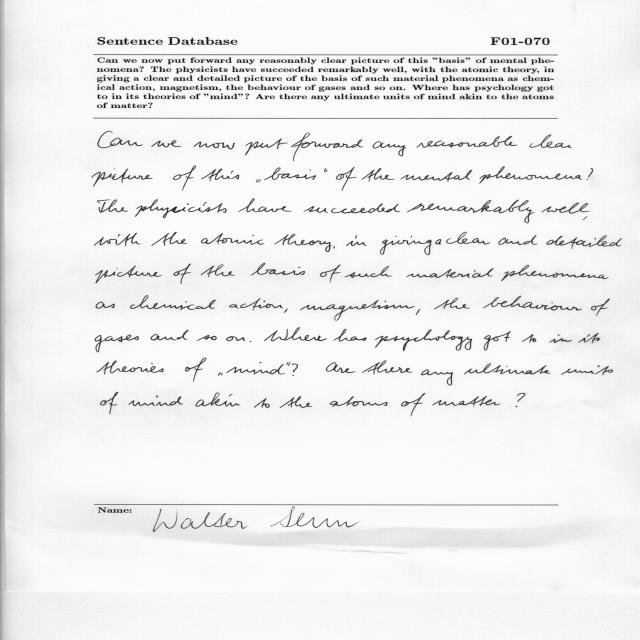word: (407, 200, 590, 223), (300, 300, 415, 321), (375, 330, 472, 352), (291, 133, 363, 161), (479, 166, 582, 184), (135, 200, 227, 219), (501, 265, 609, 281), (362, 168, 473, 182), (484, 296, 582, 311), (130, 296, 216, 310), (417, 136, 517, 148), (95, 266, 162, 283), (92, 169, 153, 187), (546, 235, 622, 249), (275, 234, 332, 252), (380, 236, 432, 255), (464, 364, 550, 375), (97, 361, 164, 375), (406, 269, 494, 279), (264, 328, 327, 341), (95, 335, 139, 353), (98, 131, 143, 148), (201, 233, 264, 245), (227, 362, 289, 374), (245, 139, 288, 156), (238, 199, 292, 212), (363, 361, 413, 375), (331, 204, 400, 214), (433, 396, 500, 406), (196, 392, 240, 407), (251, 264, 305, 276), (229, 299, 283, 311), (264, 168, 316, 180), (128, 395, 183, 406), (95, 233, 141, 246), (530, 134, 572, 148), (173, 166, 196, 191), (330, 397, 387, 407), (345, 266, 392, 278), (401, 393, 425, 416), (484, 331, 511, 351), (446, 232, 490, 244), (185, 358, 207, 382), (561, 365, 613, 375), (421, 370, 453, 386), (373, 142, 407, 157), (151, 232, 187, 246), (201, 169, 239, 182), (336, 167, 356, 191), (201, 265, 235, 278), (97, 200, 128, 213), (320, 264, 341, 283), (434, 298, 470, 309), (334, 329, 367, 341), (101, 392, 119, 414), (499, 235, 538, 245), (280, 396, 312, 408), (151, 330, 189, 340), (173, 263, 191, 284), (194, 142, 235, 150), (591, 299, 610, 316), (326, 362, 355, 373), (346, 236, 367, 247), (152, 141, 182, 148), (579, 333, 600, 343), (549, 334, 572, 343), (303, 206, 328, 213), (254, 398, 270, 408), (516, 393, 526, 407), (96, 302, 115, 309), (522, 334, 536, 343), (197, 335, 217, 341), (226, 336, 245, 341), (587, 168, 593, 180), (292, 364, 298, 376), (435, 239, 441, 244), (416, 309, 420, 315), (256, 179, 261, 183), (284, 308, 288, 313), (218, 372, 223, 376), (324, 168, 328, 172), (583, 216, 587, 220), (288, 363, 291, 366), (333, 246, 335, 248), (250, 341, 251, 342)
